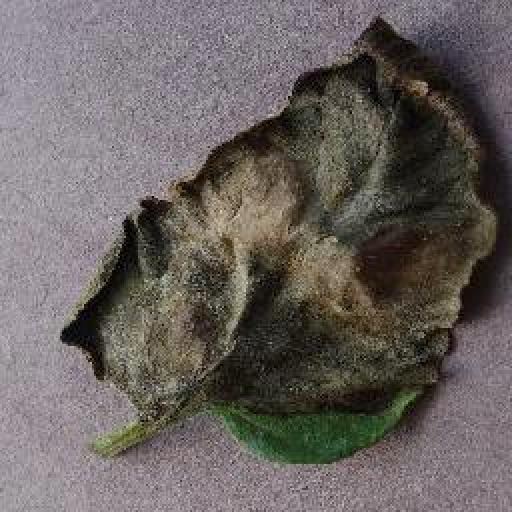disease_tomato: (56, 7, 502, 461)
